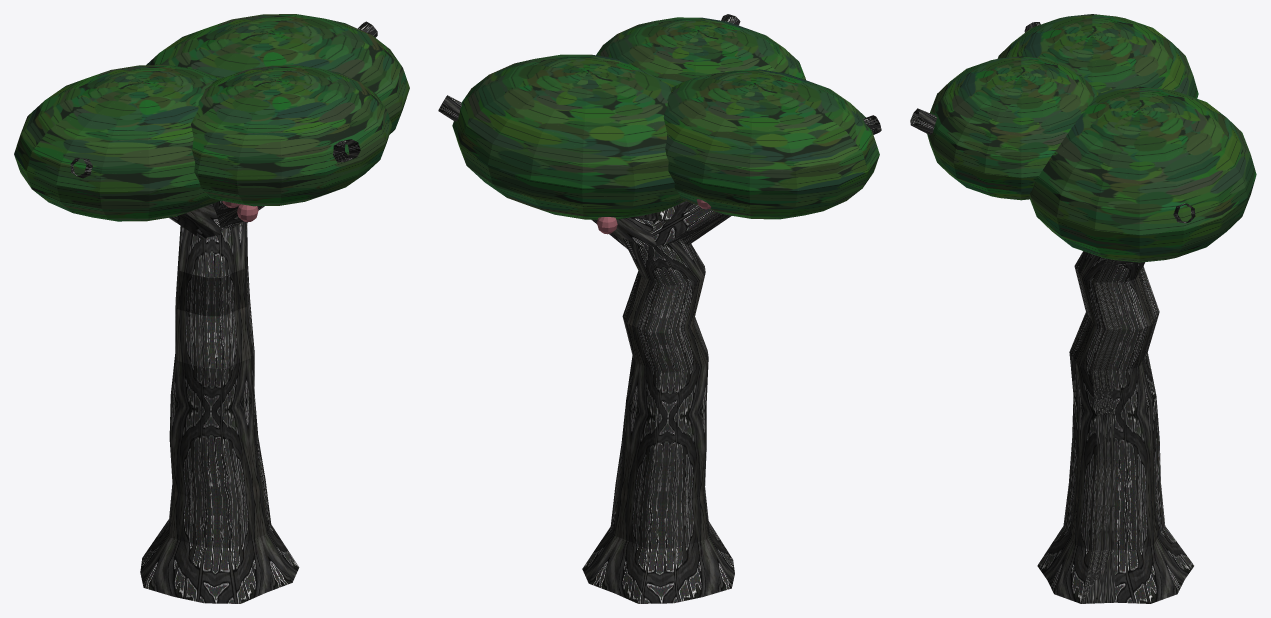
The model's file is gieng-co-cay-sung.glb.
3 renders of one model, left to right at view 1: azimuth 30°, elevation 25°; view 2: azimuth 150°, elevation 25°; view 3: azimuth 270°, elevation 25°, orthographic. The views are drawn at different scales.
Visible parts, largest first — view 1: gieng-co-cay-sung; view 2: gieng-co-cay-sung; view 3: gieng-co-cay-sung.
Boxes of the visible parts, box(x1,y1,x2,y2) form: gieng-co-cay-sung: box(14, 14, 409, 603); gieng-co-cay-sung: box(438, 14, 881, 603); gieng-co-cay-sung: box(910, 14, 1256, 603).
Bounding box in the file's own units: 1.87 × 2.35 × 1.46.
Materials: 3 (2 with a texture image).
